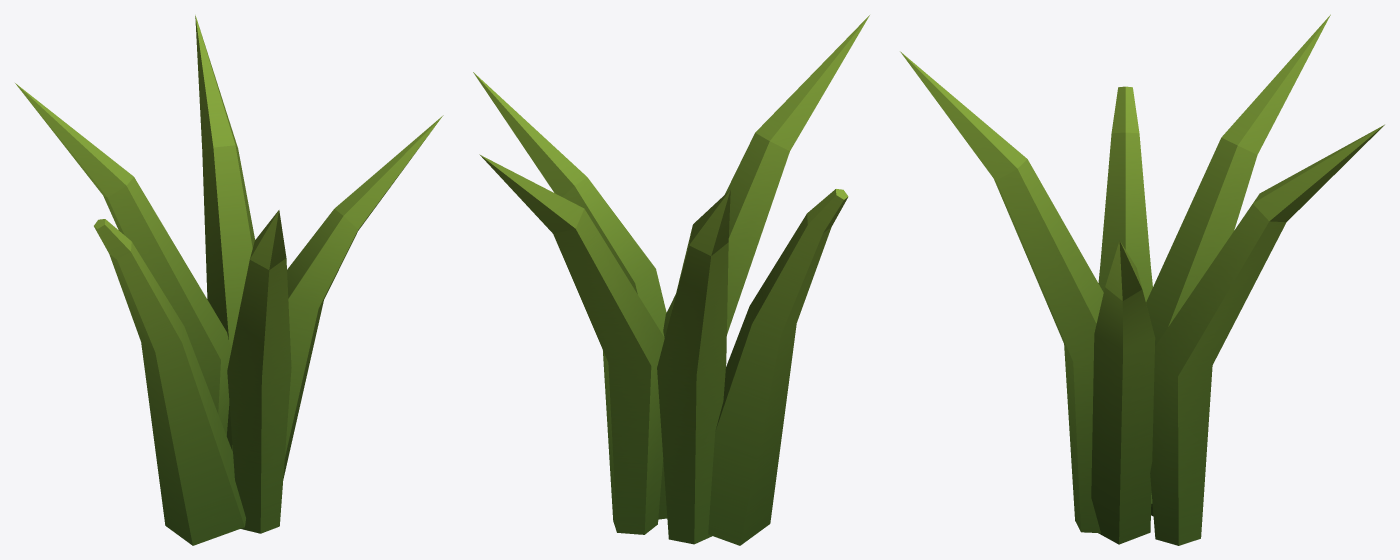
Rendered from hierba2.fbx.
The picture shows the model from 3 angles, left to right: view 1: azimuth 30°, elevation 25°; view 2: azimuth 150°, elevation 25°; view 3: azimuth 270°, elevation 25°; orthographic projection. The views are drawn at different scales.
Visible parts, largest first — view 1: hierba2; view 2: hierba2; view 3: hierba2.
Boxes of the visible parts, x1=… form: hierba2: x1=15, y1=15, x2=443, y2=545; hierba2: x1=473, y1=15, x2=869, y2=545; hierba2: x1=900, y1=14, x2=1384, y2=545.
Size of the model in its own units: 173 by 193 by 192.
